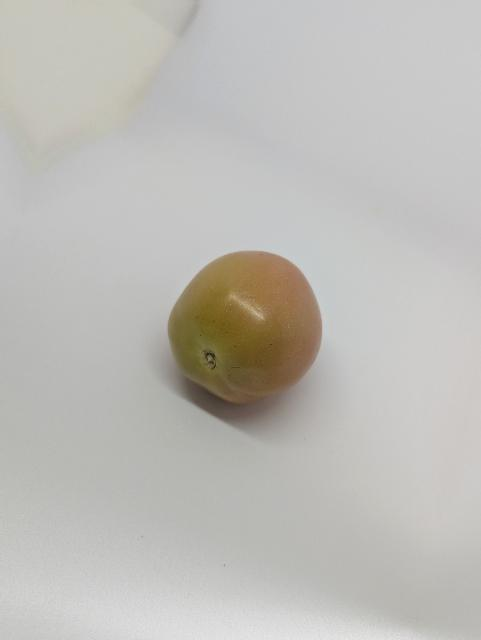turning: (164, 242, 333, 412)
